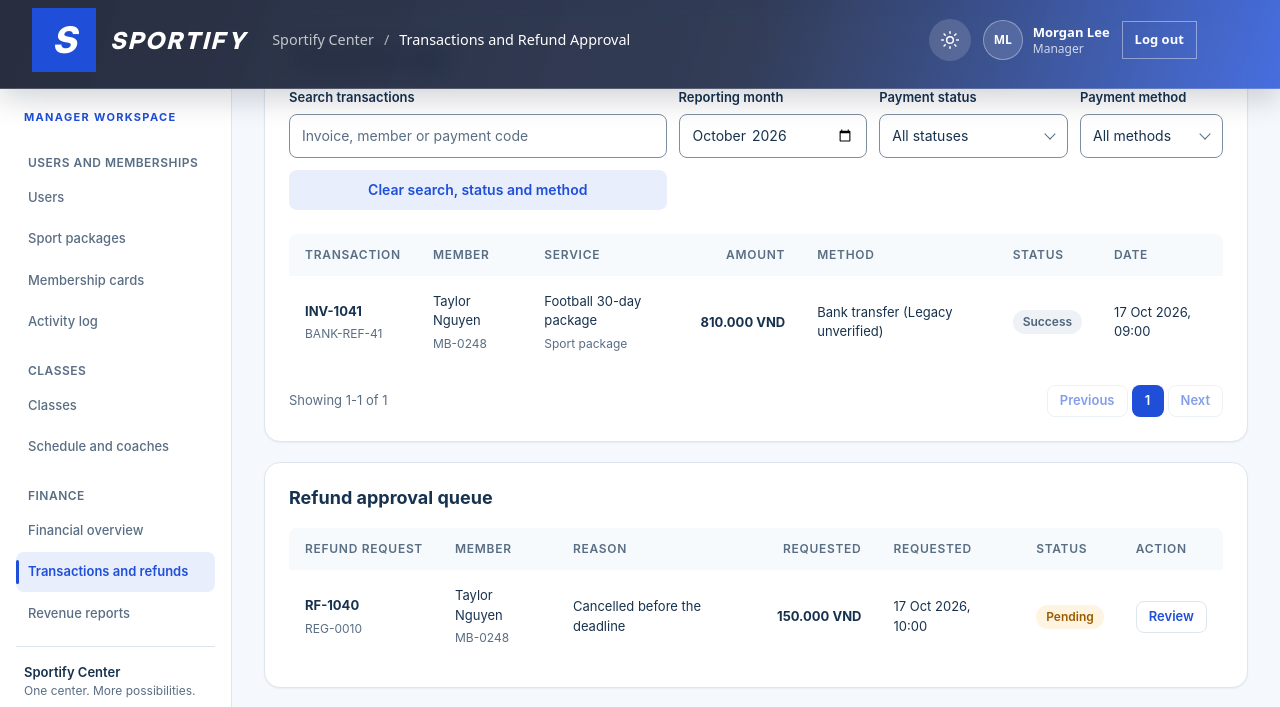
Test case: FE-13 transaction ledger and refund review › does not invite a duplicate decision after an uncertain HTTP 408 review result
(page scrolled)
Click the button with aria-label "Review refund RF-1040": click(1171, 617) [1136,601,1207,633]
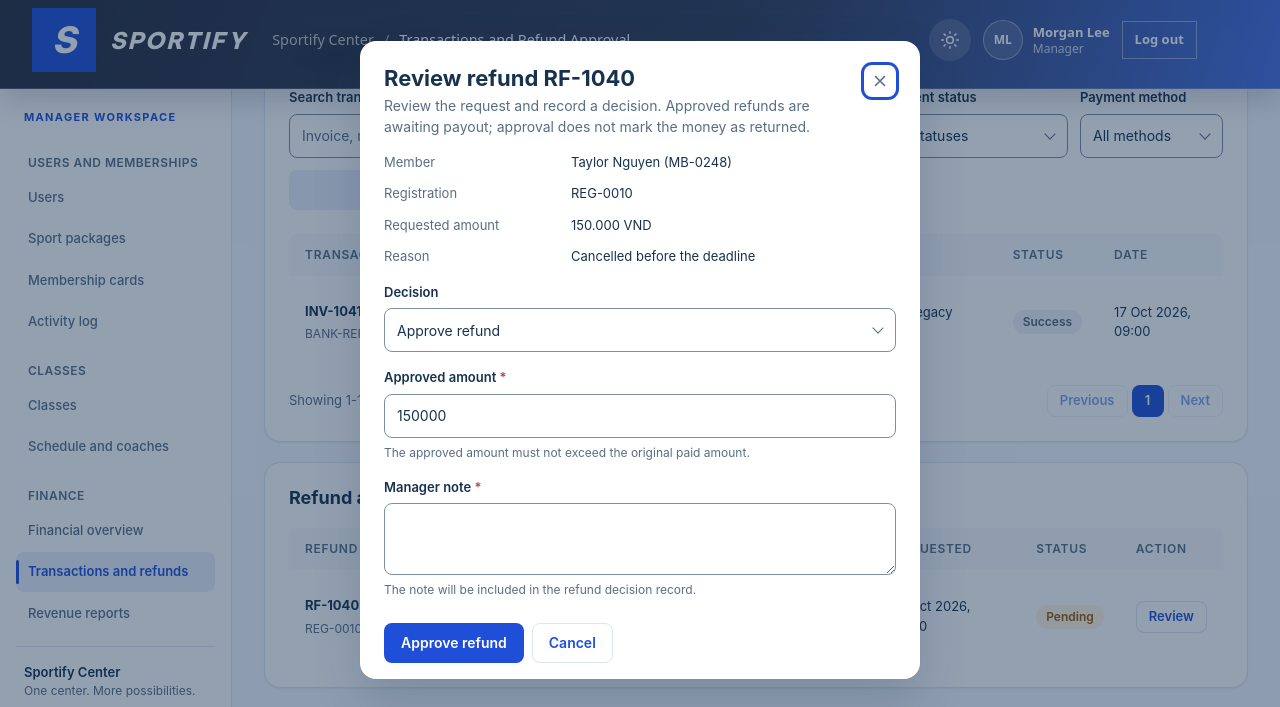
In the text box labelled "Manager note *": (640, 539) [384,503,896,575], type "Verified against the payment record."
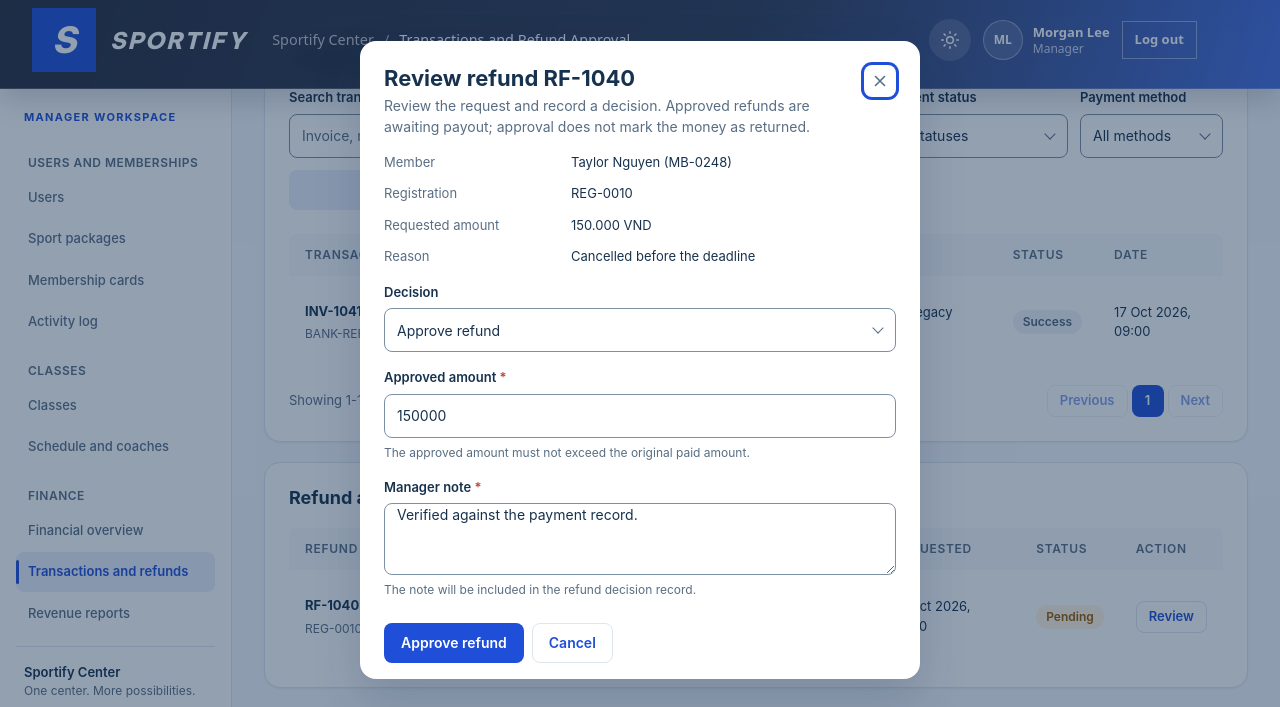
Click the button "Approve refund": click(454, 643) [384,623,524,663]
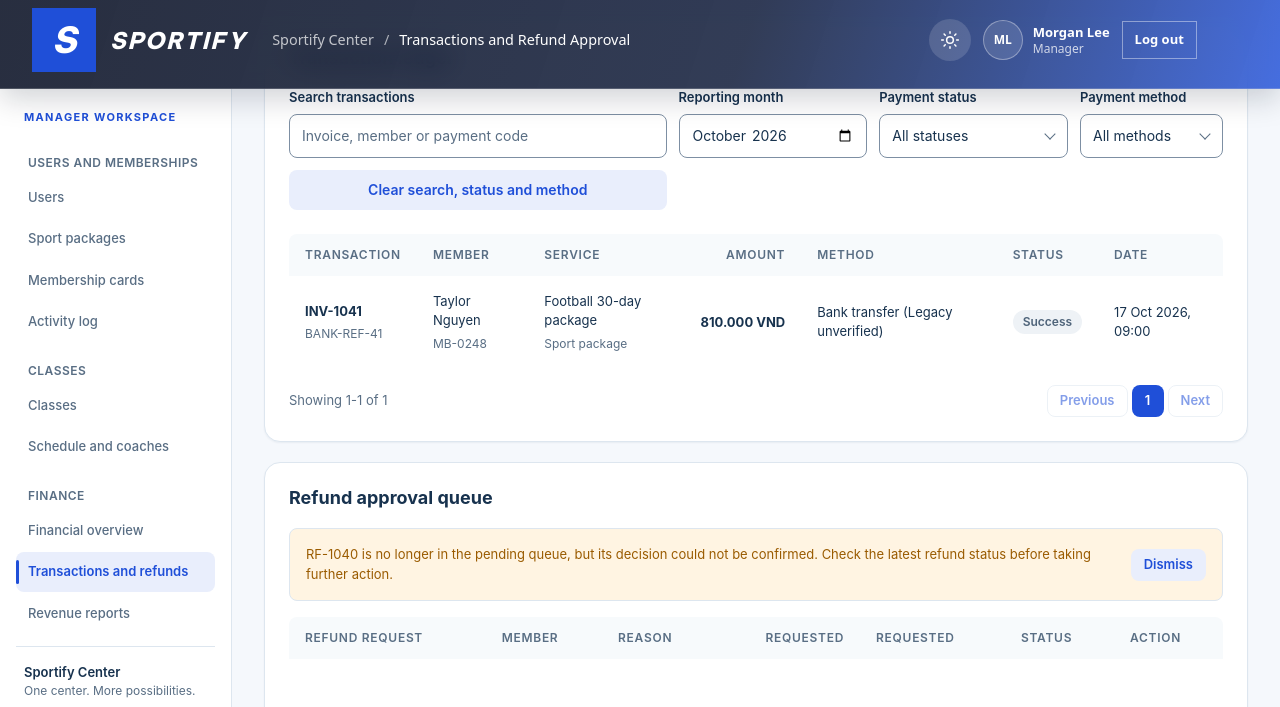
Result: the text "no longer in the pending queue, but its decision could not be confirmed" is shown at [306,546,1091,582]
Result: the heading "Review refund RF-1040" is gone
